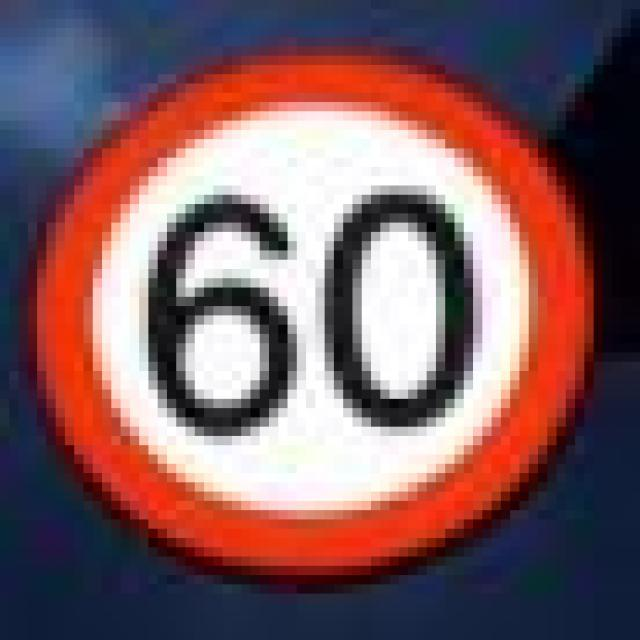speed limit 60: (22, 49, 594, 579)
